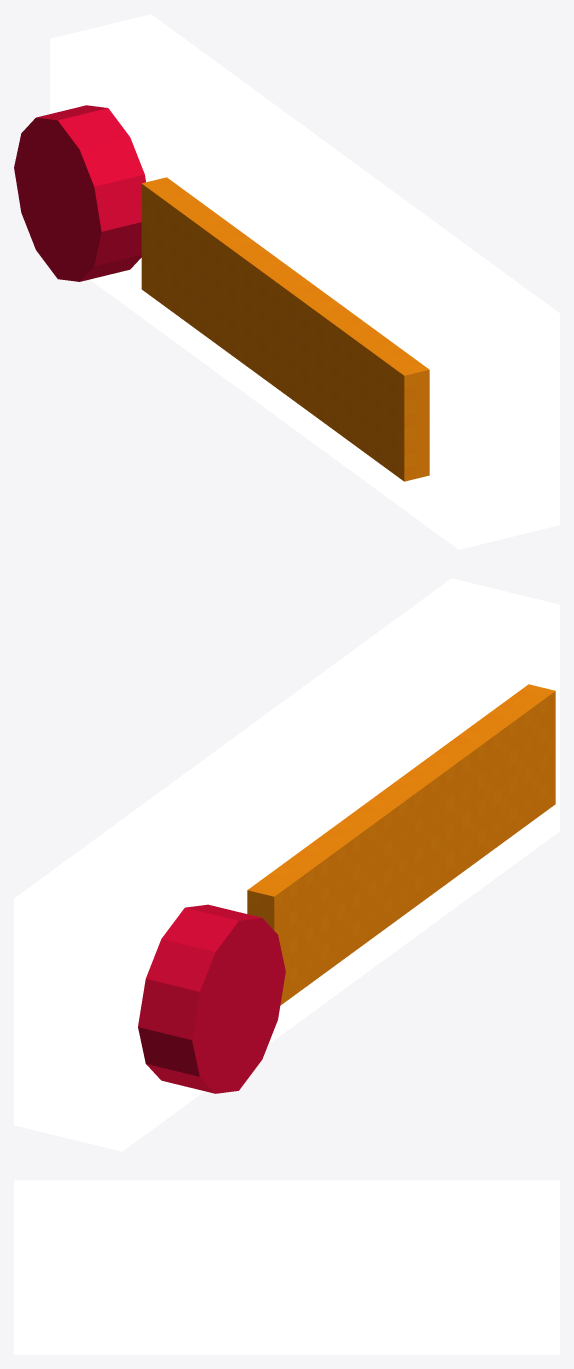
File: ElevatorButton.glb
3 views of the same model, one above another, from view 1: azimuth 30°, elevation 25°; view 2: azimuth 150°, elevation 25°; view 3: azimuth 270°, elevation 25° (orthographic). The views are drawn at different scales.
Visible parts, largest first — view 1: ElevatorButton2, InteractButton; view 2: ElevatorButton2, InteractButton; view 3: ElevatorButton2.
Boxes of the visible parts, x1,y1,x2,y2 form: ElevatorButton2: [50, 14, 559, 549]; InteractButton: [14, 105, 145, 281]; ElevatorButton2: [14, 578, 559, 1151]; InteractButton: [138, 904, 285, 1093]; ElevatorButton2: [14, 1180, 559, 1354].
Bounding box in the file's own units: 0.1875 × 0.25 × 0.875.
Materials: 3 (3 with a texture image).
